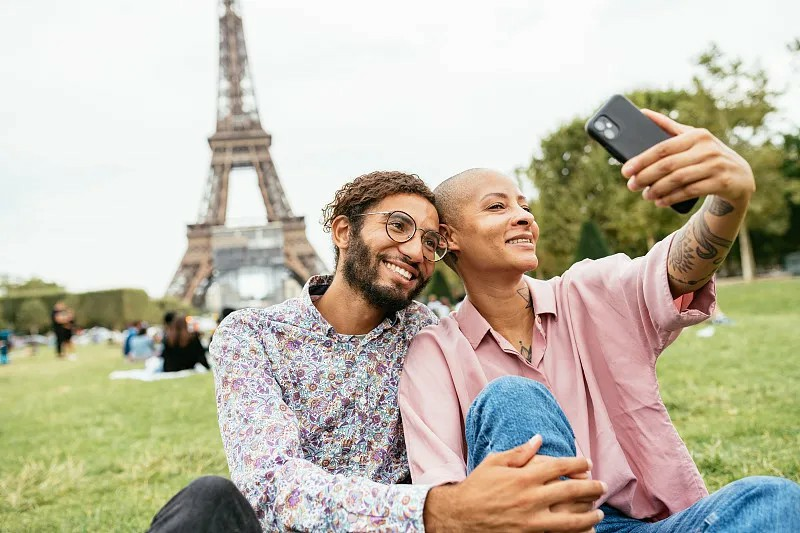Eiffel: (160, 1, 333, 313)
